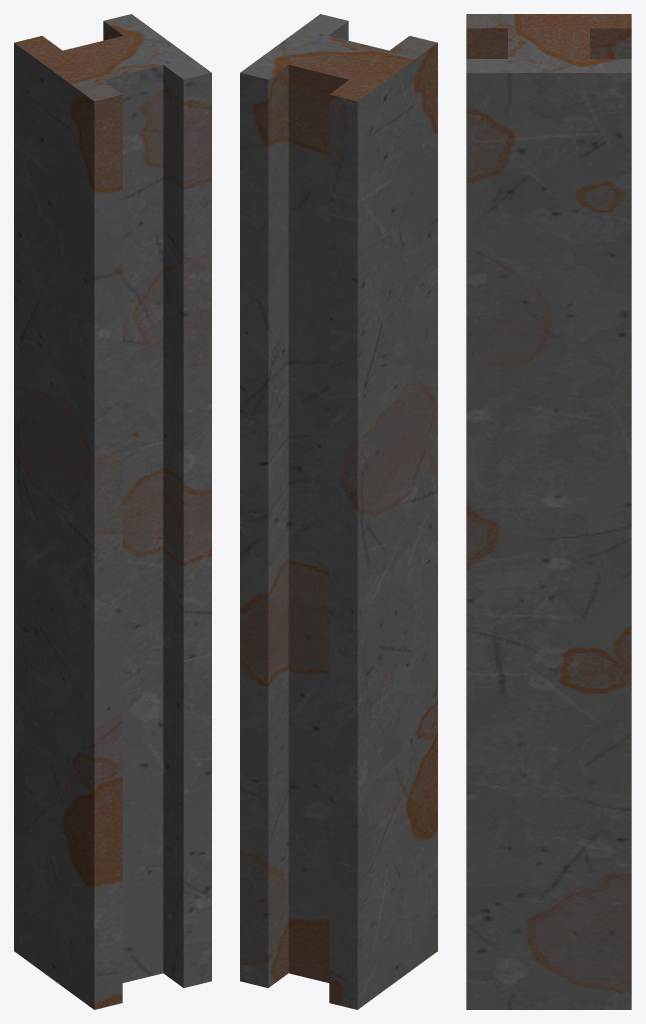
File: VerticalBulkSorterSupport.glb
3 views of the same model, side by side, from view 1: azimuth 30°, elevation 25°; view 2: azimuth 150°, elevation 25°; view 3: azimuth 270°, elevation 25° (orthographic). The views are drawn at different scales.
Visible parts, largest first — view 1: VerticalBulkSorterSupport; view 2: VerticalBulkSorterSupport; view 3: VerticalBulkSorterSupport.
Part boxes in pixels (bbox=[...]): VerticalBulkSorterSupport: bbox=[14, 14, 211, 1009]; VerticalBulkSorterSupport: bbox=[240, 14, 437, 1009]; VerticalBulkSorterSupport: bbox=[466, 14, 631, 1009].
Size of the model in its own units: 0.1354 by 1 by 0.1602.
1 material, 1 textured.
